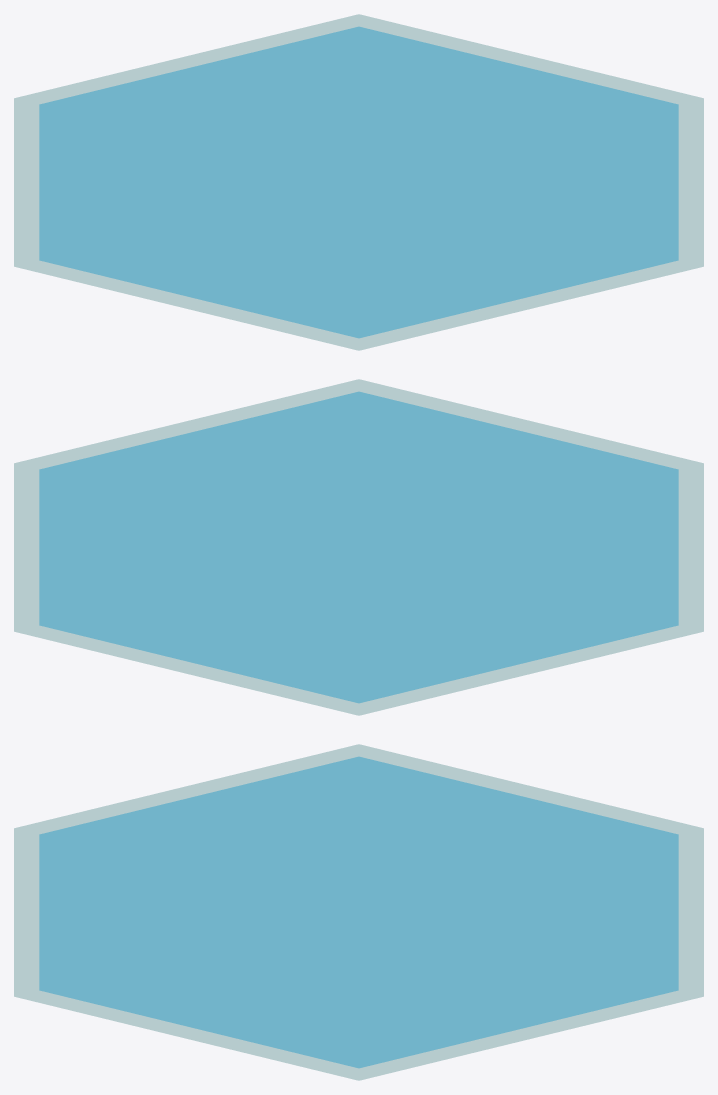
File: 2D_Altgen_Kontur_005_.fbx
3 renders of one model, top to bottom at view 1: azimuth 30°, elevation 25°; view 2: azimuth 150°, elevation 25°; view 3: azimuth 270°, elevation 25°, orthographic.
Visible parts, largest first — view 1: Circle; view 2: Circle; view 3: Circle.
Part boxes in pixels (left/top/right/bottom): Circle: left=14, top=14, right=703, bottom=350; Circle: left=14, top=379, right=703, bottom=715; Circle: left=14, top=744, right=703, bottom=1080.
Size of the model in its own units: 0.4606 by 0.3988 by 2.68e-08.
